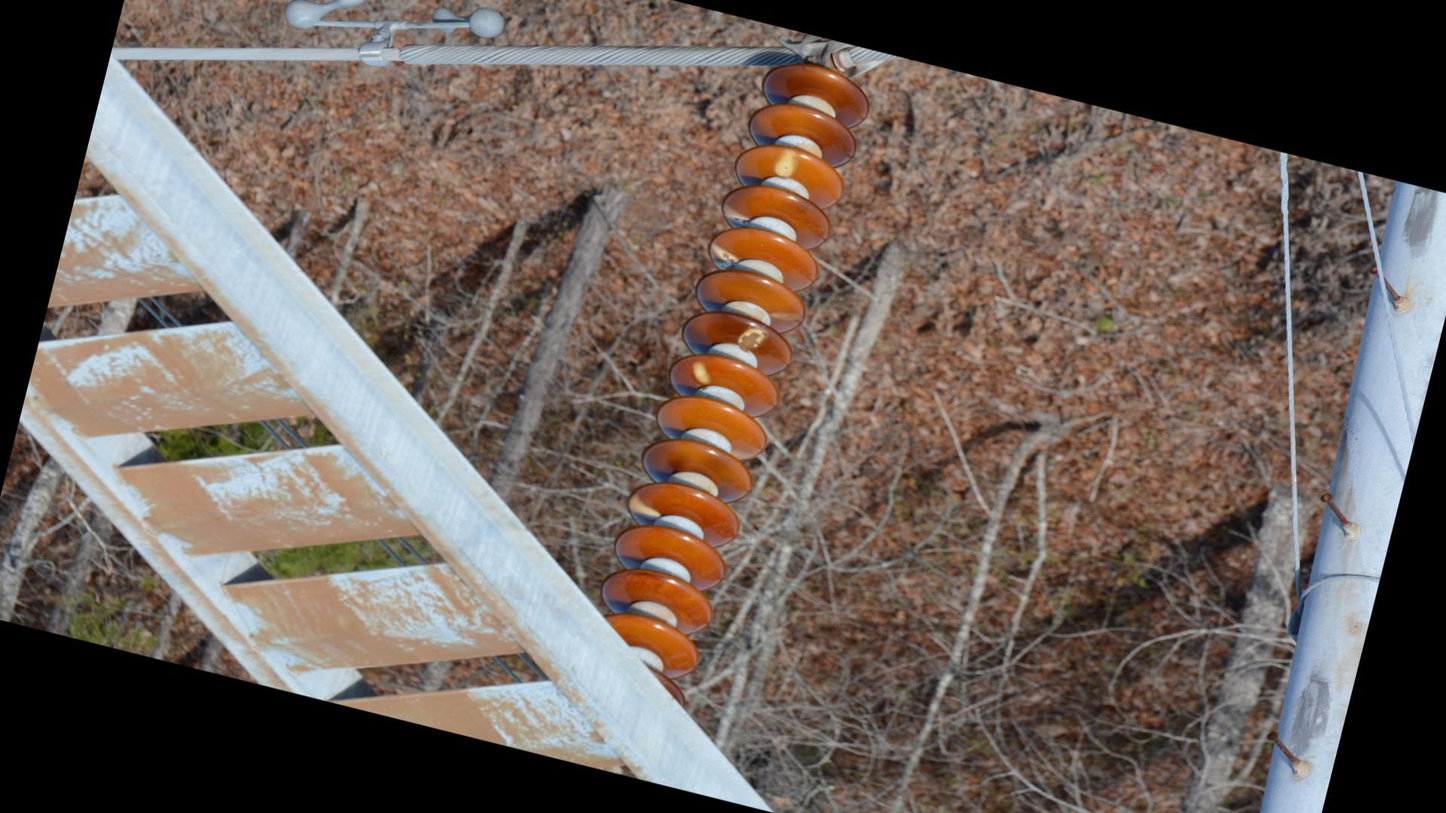damper: (271, 1, 515, 100)
